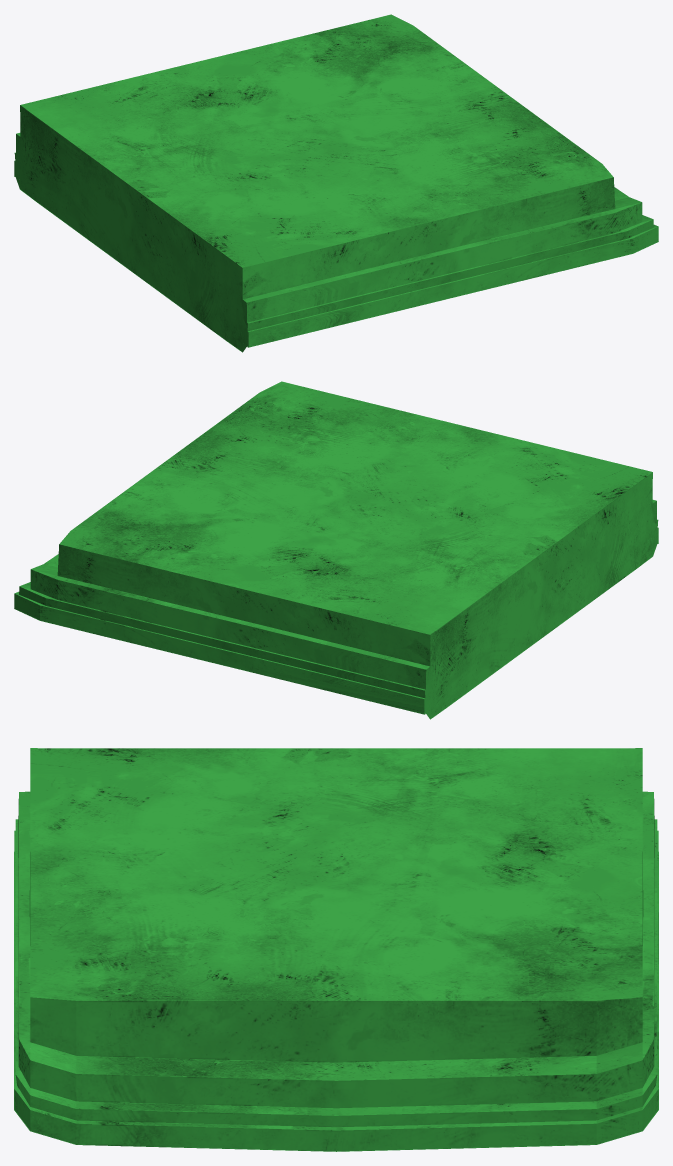
Rendered from tampa_lixeira_texturizada.fbx.
The picture shows the model from 3 angles, top to bottom: view 1: azimuth 30°, elevation 25°; view 2: azimuth 150°, elevation 25°; view 3: azimuth 270°, elevation 25°; orthographic projection. The views are drawn at different scales.
Parts seen in each view (by area): view 1: tampa_lixeira; view 2: tampa_lixeira; view 3: tampa_lixeira.
Part boxes in pixels (bbox=[...]): tampa_lixeira: bbox=[14, 14, 658, 352]; tampa_lixeira: bbox=[14, 381, 658, 719]; tampa_lixeira: bbox=[14, 748, 658, 1151].
Size of the model in its own units: 71.69 by 14.42 by 69.26.
Materials: 1 (1 with a texture image).
